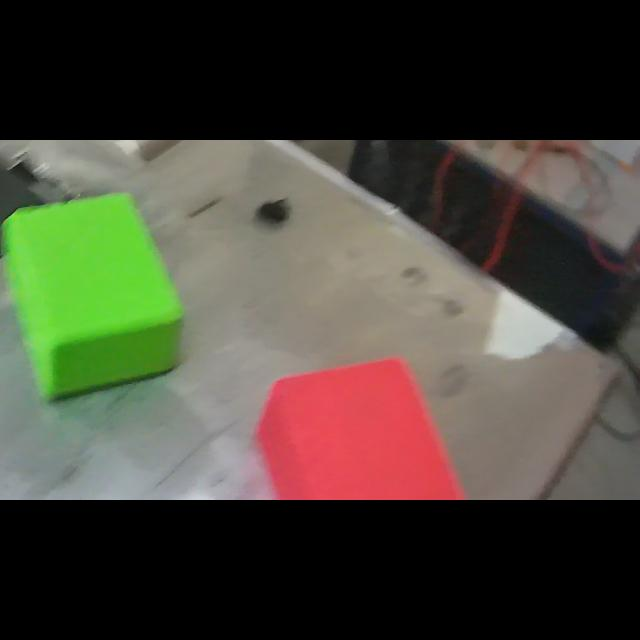greenBox: (2, 188, 184, 404)
redBox: (253, 358, 469, 500)
